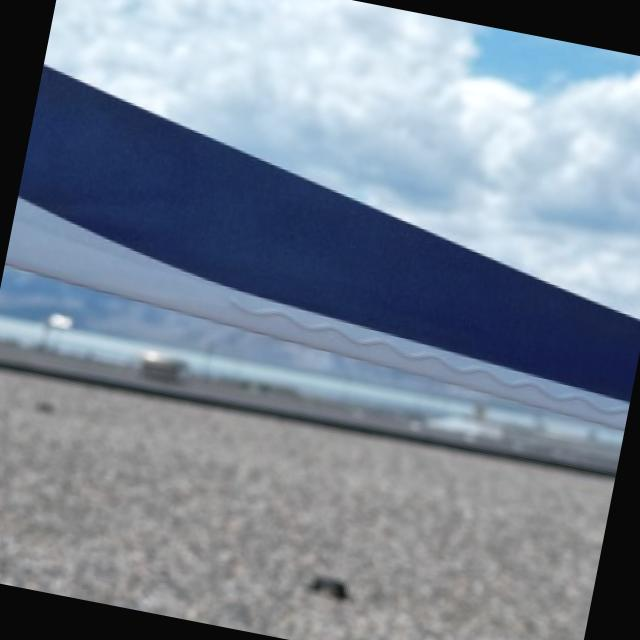healthy: (5, 65, 640, 425)
